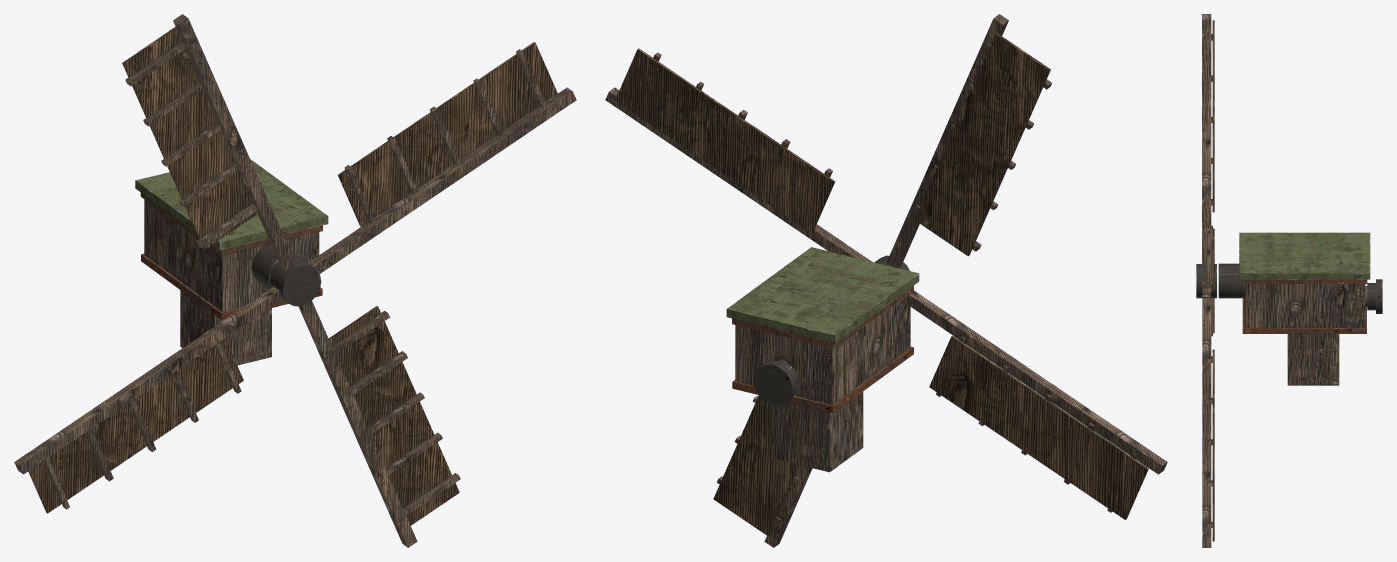
The model's file is feWindmill_HD.fbx.
The picture shows the model from 3 angles, left to right: view 1: azimuth 30°, elevation 25°; view 2: azimuth 150°, elevation 25°; view 3: azimuth 270°, elevation 25°; orthographic projection. The views are drawn at different scales.
Parts seen in each view (by area): view 1: FeSpin_WindSails, feWindmill_Base; view 2: FeSpin_WindSails, feWindmill_Base, FeSpin_Shaft; view 3: feWindmill_Base, FeSpin_WindSails, FeSpin_Shaft.
Boxes of the visible parts, <box> form: FeSpin_WindSails: <box>14,14,576,547</box>; feWindmill_Base: <box>135,159,328,365</box>; FeSpin_WindSails: <box>605,14,1167,547</box>; feWindmill_Base: <box>726,247,919,472</box>; FeSpin_Shaft: <box>753,360,797,405</box>; feWindmill_Base: <box>1218,232,1370,385</box>; FeSpin_WindSails: <box>1196,14,1216,547</box>; FeSpin_Shaft: <box>1365,279,1382,313</box>.
Size of the model in its own units: 2.88 by 2.89 by 1.08.
Materials: 1 (1 with a texture image).
